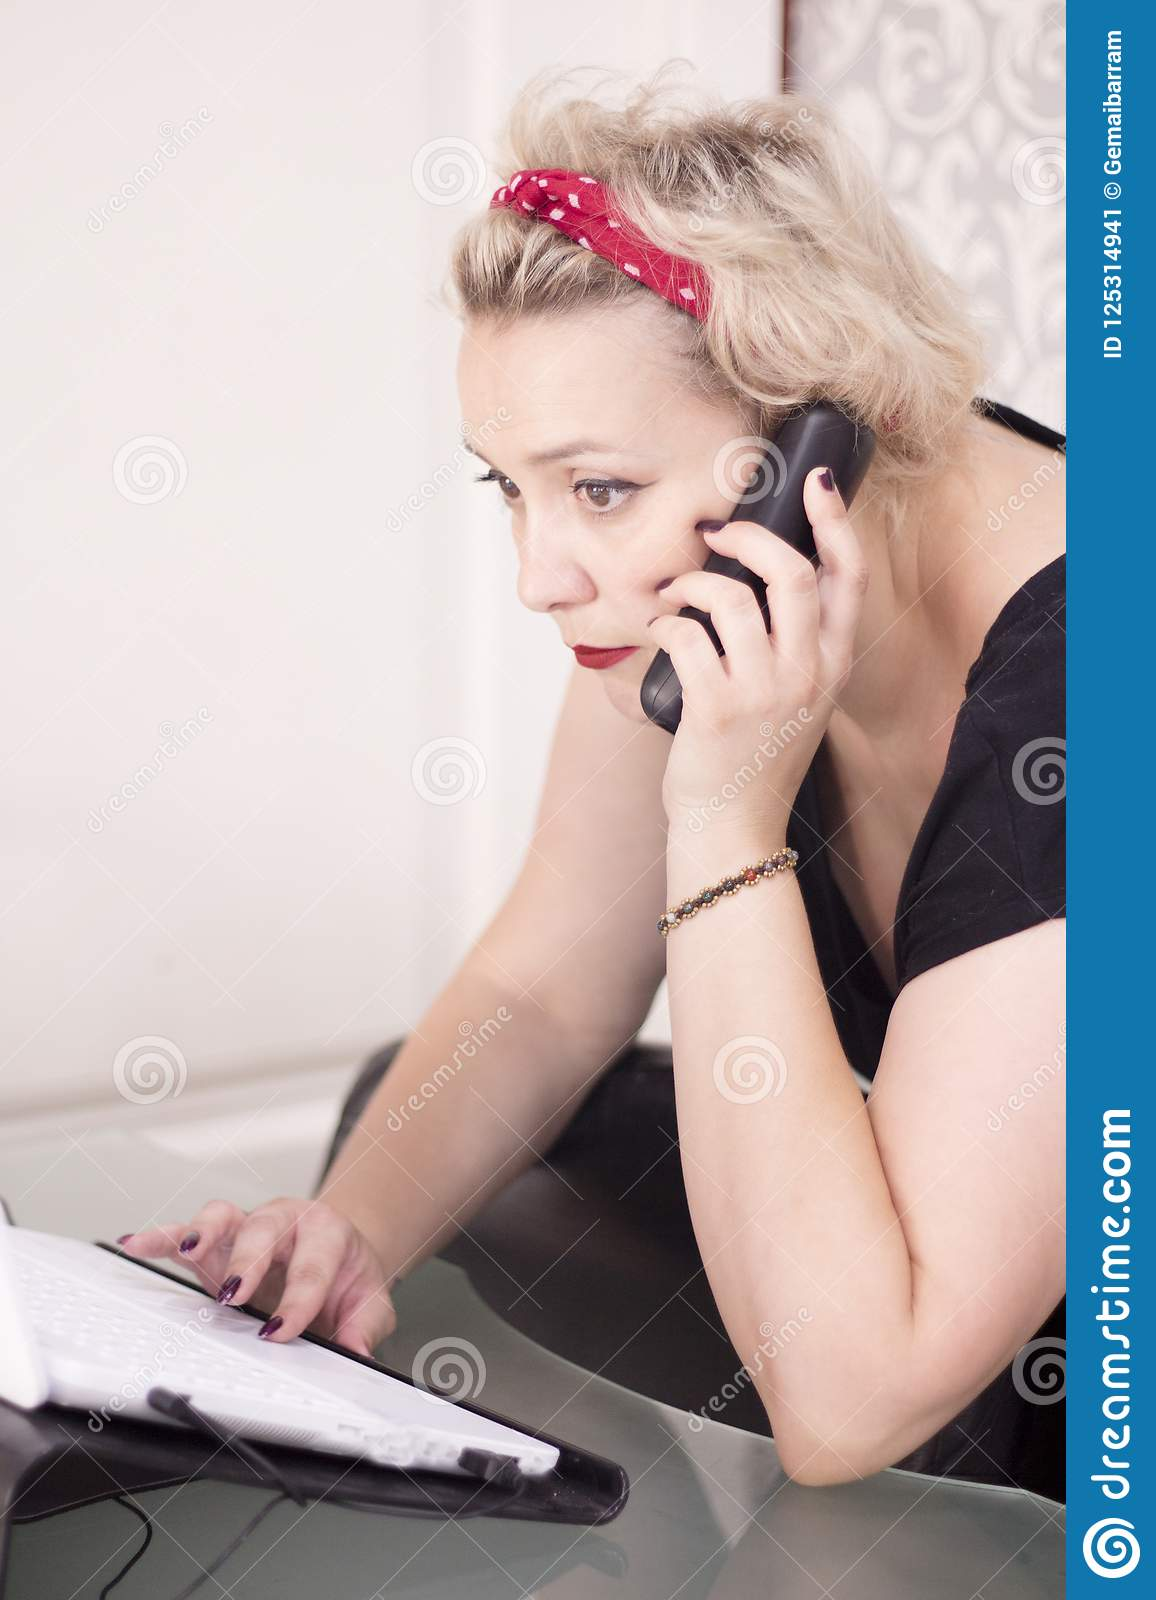phone: (634, 407, 857, 766)
talk: (459, 391, 869, 852)
